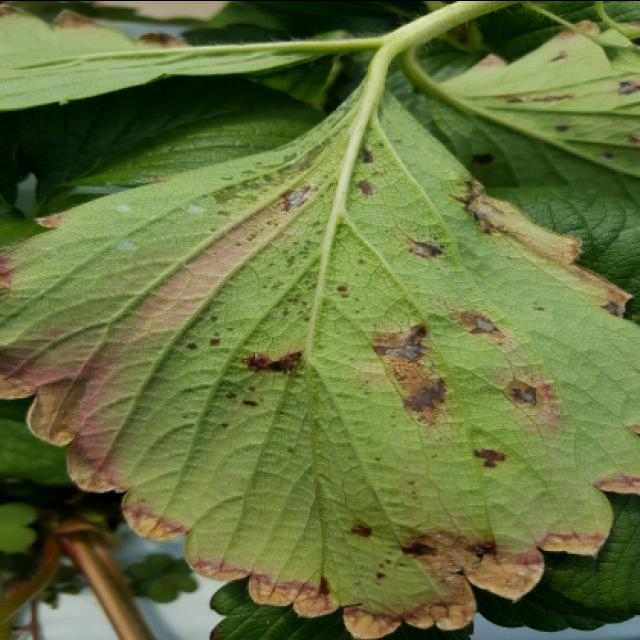Angular Leafspot: (0, 80, 638, 638), (440, 18, 638, 173)
